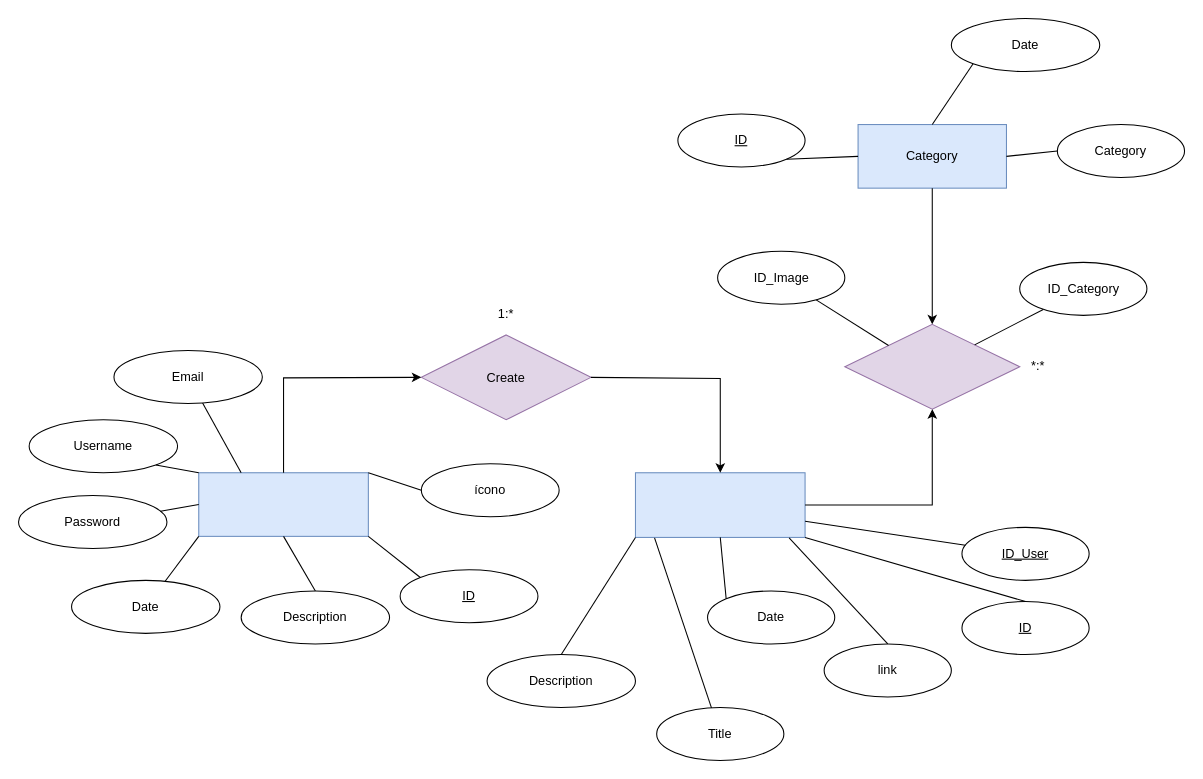
Some shapes in this 1203 by 779 pixel diagram are drawn without their labels. Each missing label, with the box of its shape:
Belongs: (844, 323, 1020, 409)
Image: (634, 472, 805, 537)
User: (198, 472, 368, 536)
